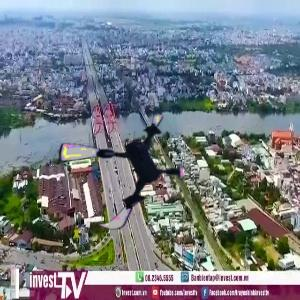drone: (59, 106, 186, 233)
